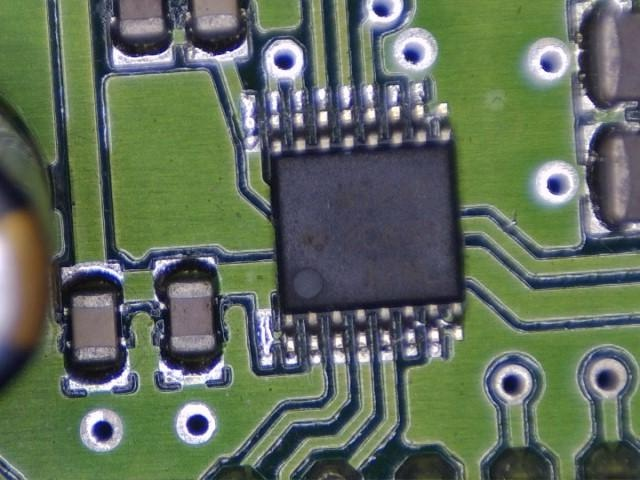pcb_defect: (239, 81, 465, 370)
